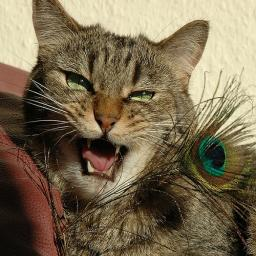catnose: (95, 115, 118, 133)
